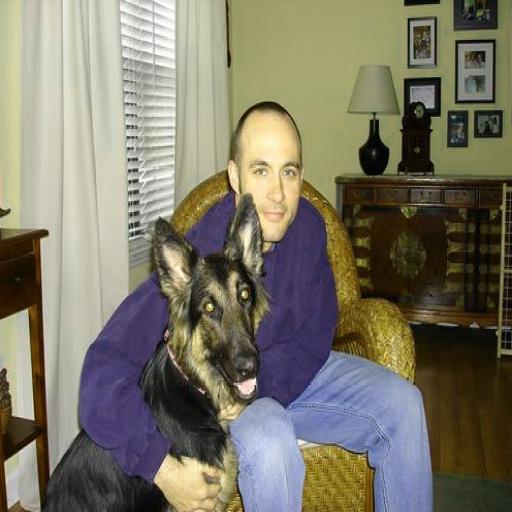dog_face: (139, 200, 262, 404)
